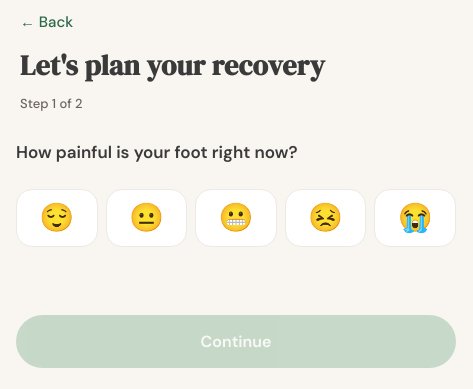
Test: RehabOnboarding — step 1 (pain) › disables Continue until a pain level is chosen
Expected: the button "Continue" is disabled, [16,315,456,368]
Step 1. Click the button named "Severe pain" → [415, 218], box [374,189,456,247]
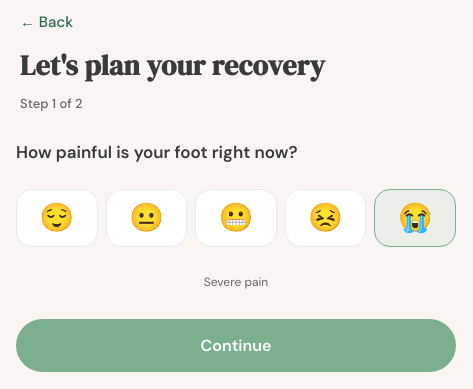
Expected: the button "Continue" is enabled, [16,319,456,372]
